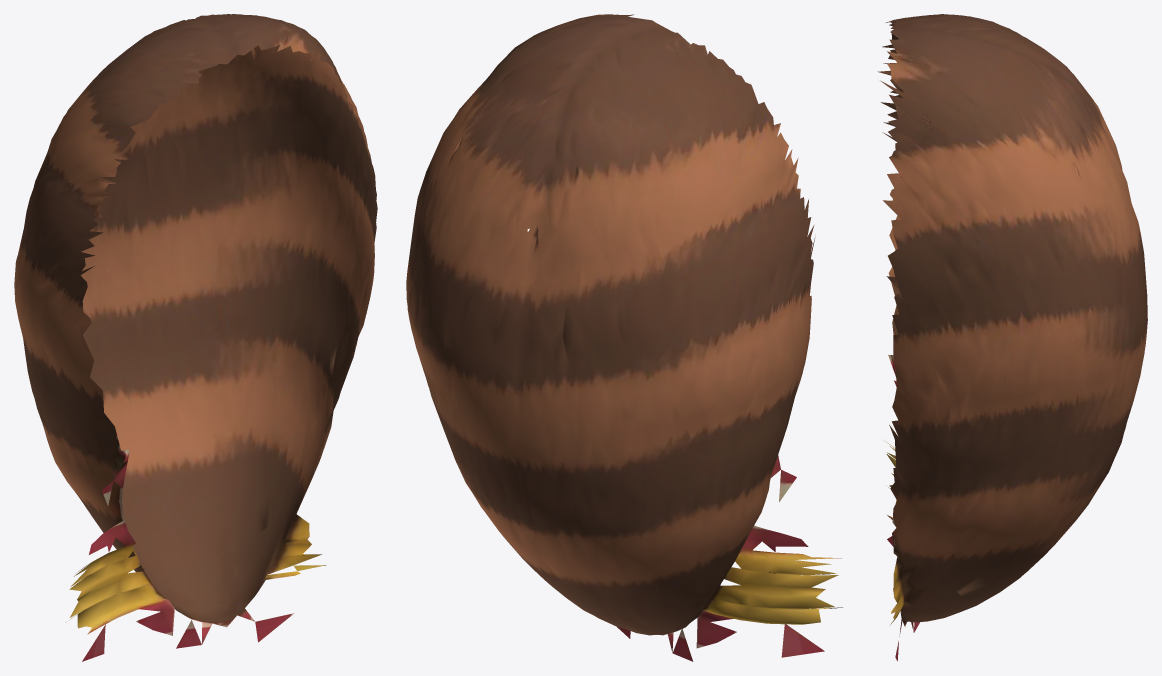
File: pon_reveal.glb
The picture shows the model from 3 angles, left to right: view 1: azimuth 30°, elevation 25°; view 2: azimuth 150°, elevation 25°; view 3: azimuth 270°, elevation 25°; orthographic projection. The views are drawn at different scales.
Parts seen in each view (by area): view 1: pon_reveal; view 2: pon_reveal; view 3: pon_reveal.
Boxes of the visible parts, x1,y1,x2,y2 form: pon_reveal: [14, 14, 377, 661]; pon_reveal: [406, 14, 842, 661]; pon_reveal: [877, 14, 1147, 661].
Bounding box in the file's own units: 0.6001 × 1 × 0.3917.
Materials: 1 (1 with a texture image).
